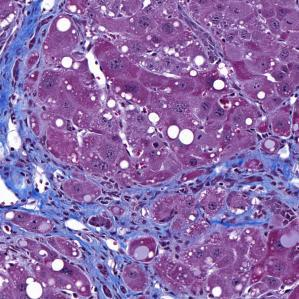fibrosis: (5, 128, 167, 246)
